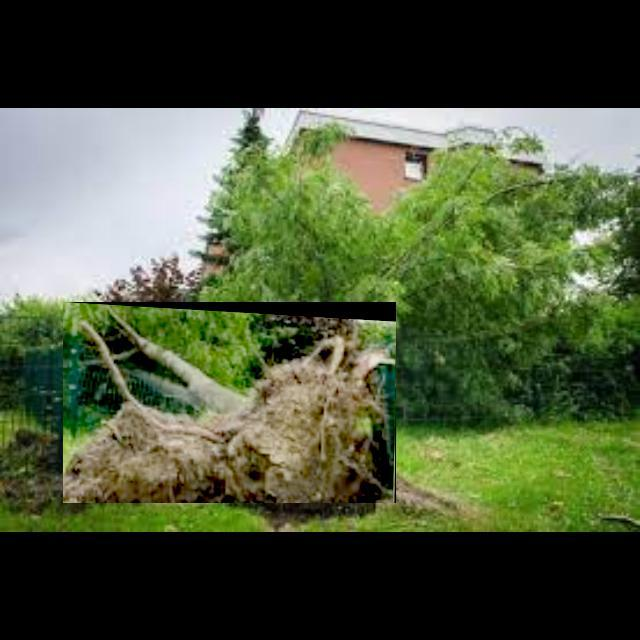fallen_tree: (63, 302, 397, 504)
